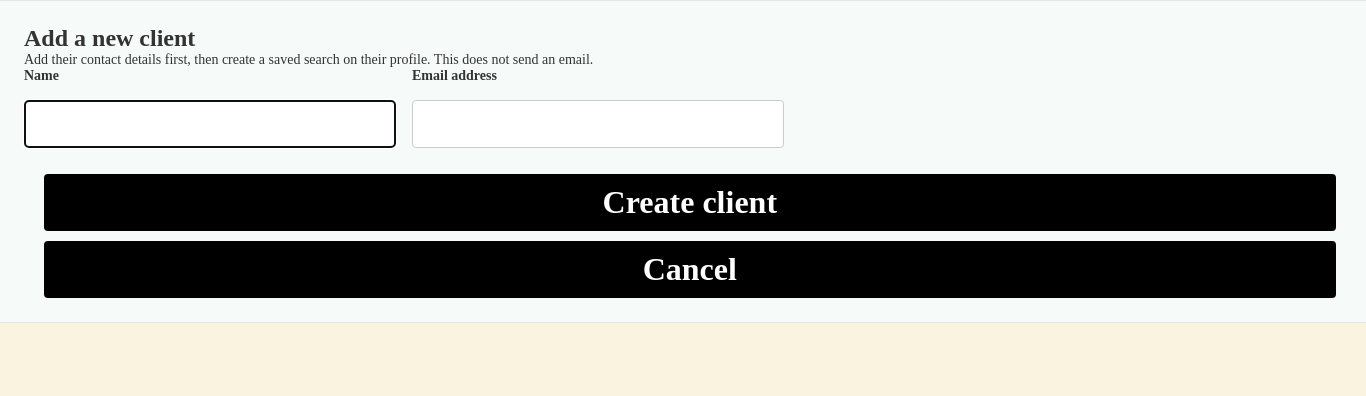
duplicate failure retains input for correction
In the field labelled "Name": (210, 124) [24, 100, 396, 148], type " Fictional Buyer "
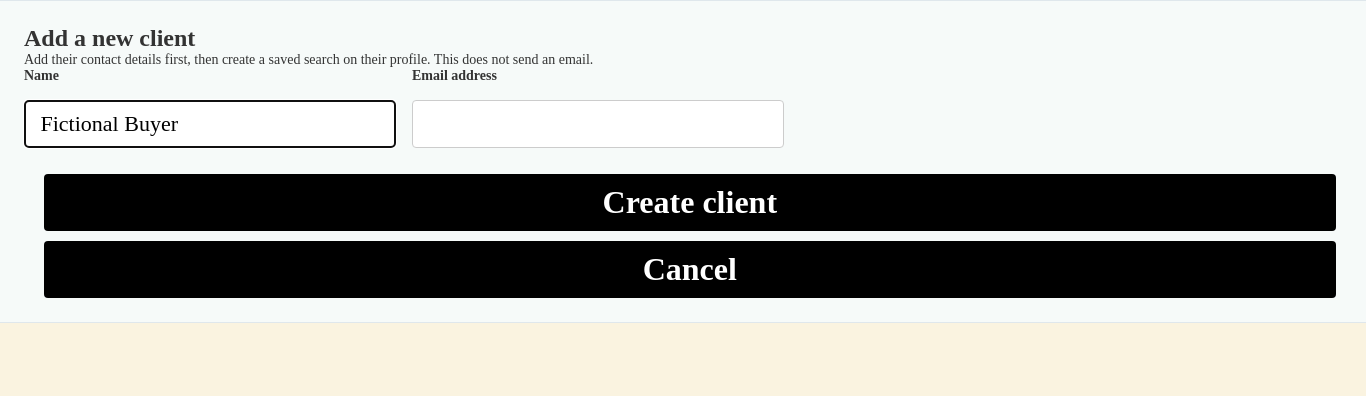
In the field labelled "Email address": (598, 124) [412, 100, 784, 148], type "fictional.buyer@example.com"
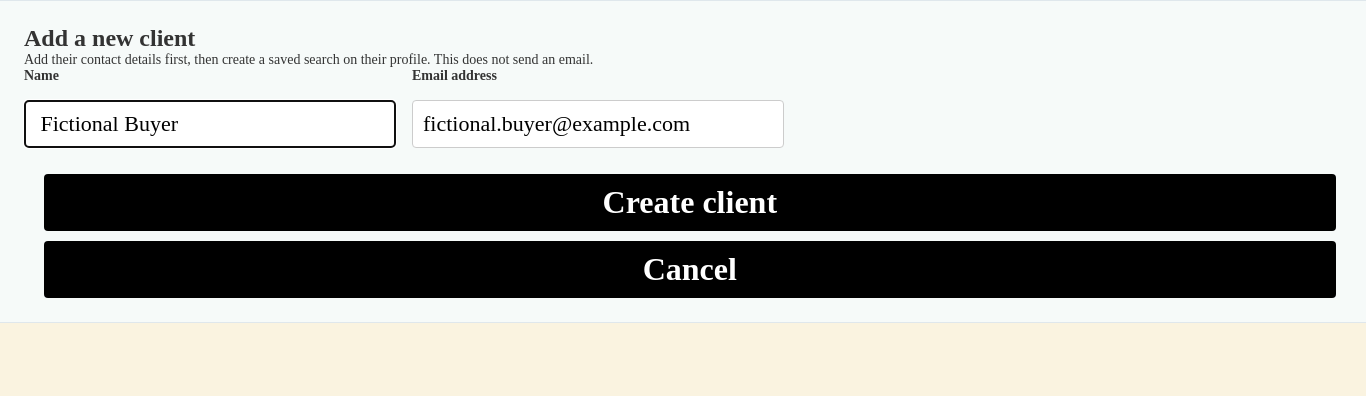
Click the button "Create client": (690, 202) [44, 174, 1336, 231]
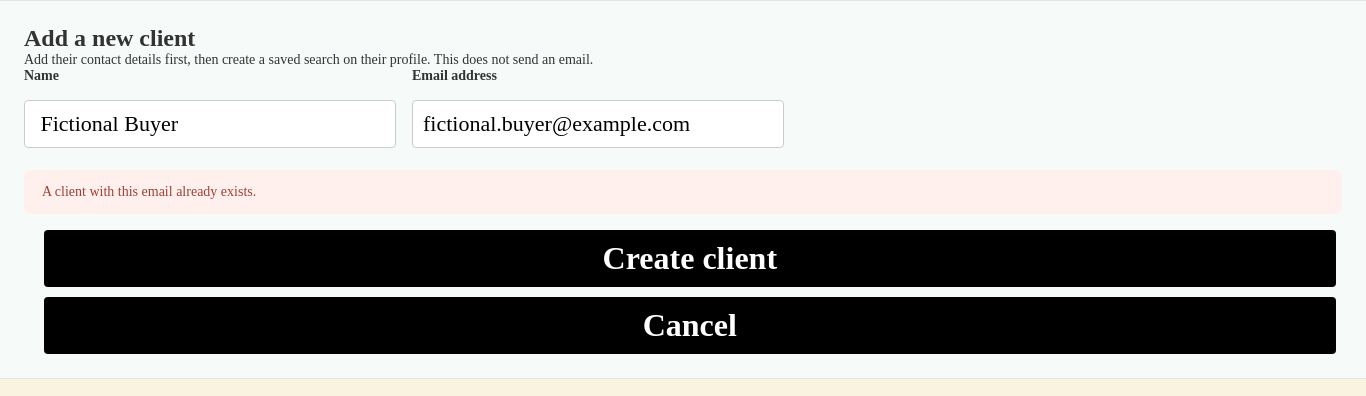
Expected: the message shows "already exists", [42, 184, 256, 199]
